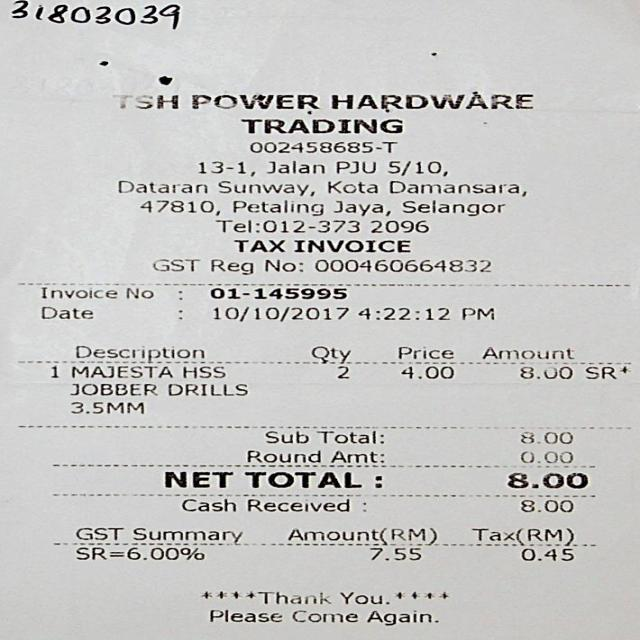text: (330, 93, 532, 108), (191, 94, 319, 114), (286, 527, 435, 543), (388, 180, 524, 196), (313, 259, 489, 271), (240, 119, 402, 132), (74, 345, 204, 360), (213, 306, 348, 320), (244, 471, 361, 487), (214, 220, 358, 232), (75, 546, 203, 559), (201, 590, 329, 603), (132, 527, 242, 542), (469, 527, 572, 543), (250, 141, 396, 152), (216, 180, 313, 196), (402, 200, 504, 215), (207, 287, 346, 298), (339, 591, 447, 604), (230, 200, 322, 215), (293, 240, 408, 252), (244, 498, 349, 510), (506, 473, 586, 488), (480, 346, 572, 359), (117, 180, 206, 193), (139, 200, 219, 214), (357, 307, 449, 319), (162, 470, 231, 486), (70, 366, 170, 377), (365, 610, 437, 625), (208, 608, 280, 622), (111, 93, 178, 108), (518, 495, 576, 512), (68, 384, 157, 395), (246, 449, 320, 462), (38, 286, 115, 298), (388, 160, 445, 176), (332, 200, 388, 216), (315, 430, 383, 443), (167, 384, 247, 395), (198, 161, 254, 176), (70, 401, 144, 412), (290, 610, 356, 622), (399, 364, 454, 378), (267, 160, 323, 173), (397, 346, 452, 359), (518, 431, 572, 444), (370, 220, 427, 232), (309, 344, 349, 361), (210, 258, 252, 274), (369, 547, 420, 560), (181, 498, 235, 510), (584, 365, 630, 379), (518, 366, 571, 378), (233, 240, 284, 252), (41, 306, 92, 318), (521, 548, 572, 560), (326, 180, 376, 192), (330, 450, 384, 461), (520, 450, 573, 461), (74, 526, 122, 538), (264, 430, 308, 443), (152, 258, 198, 270), (182, 366, 224, 378), (335, 160, 374, 172), (263, 259, 302, 271), (461, 308, 493, 320), (124, 287, 152, 297), (336, 366, 346, 378), (48, 366, 56, 377)
